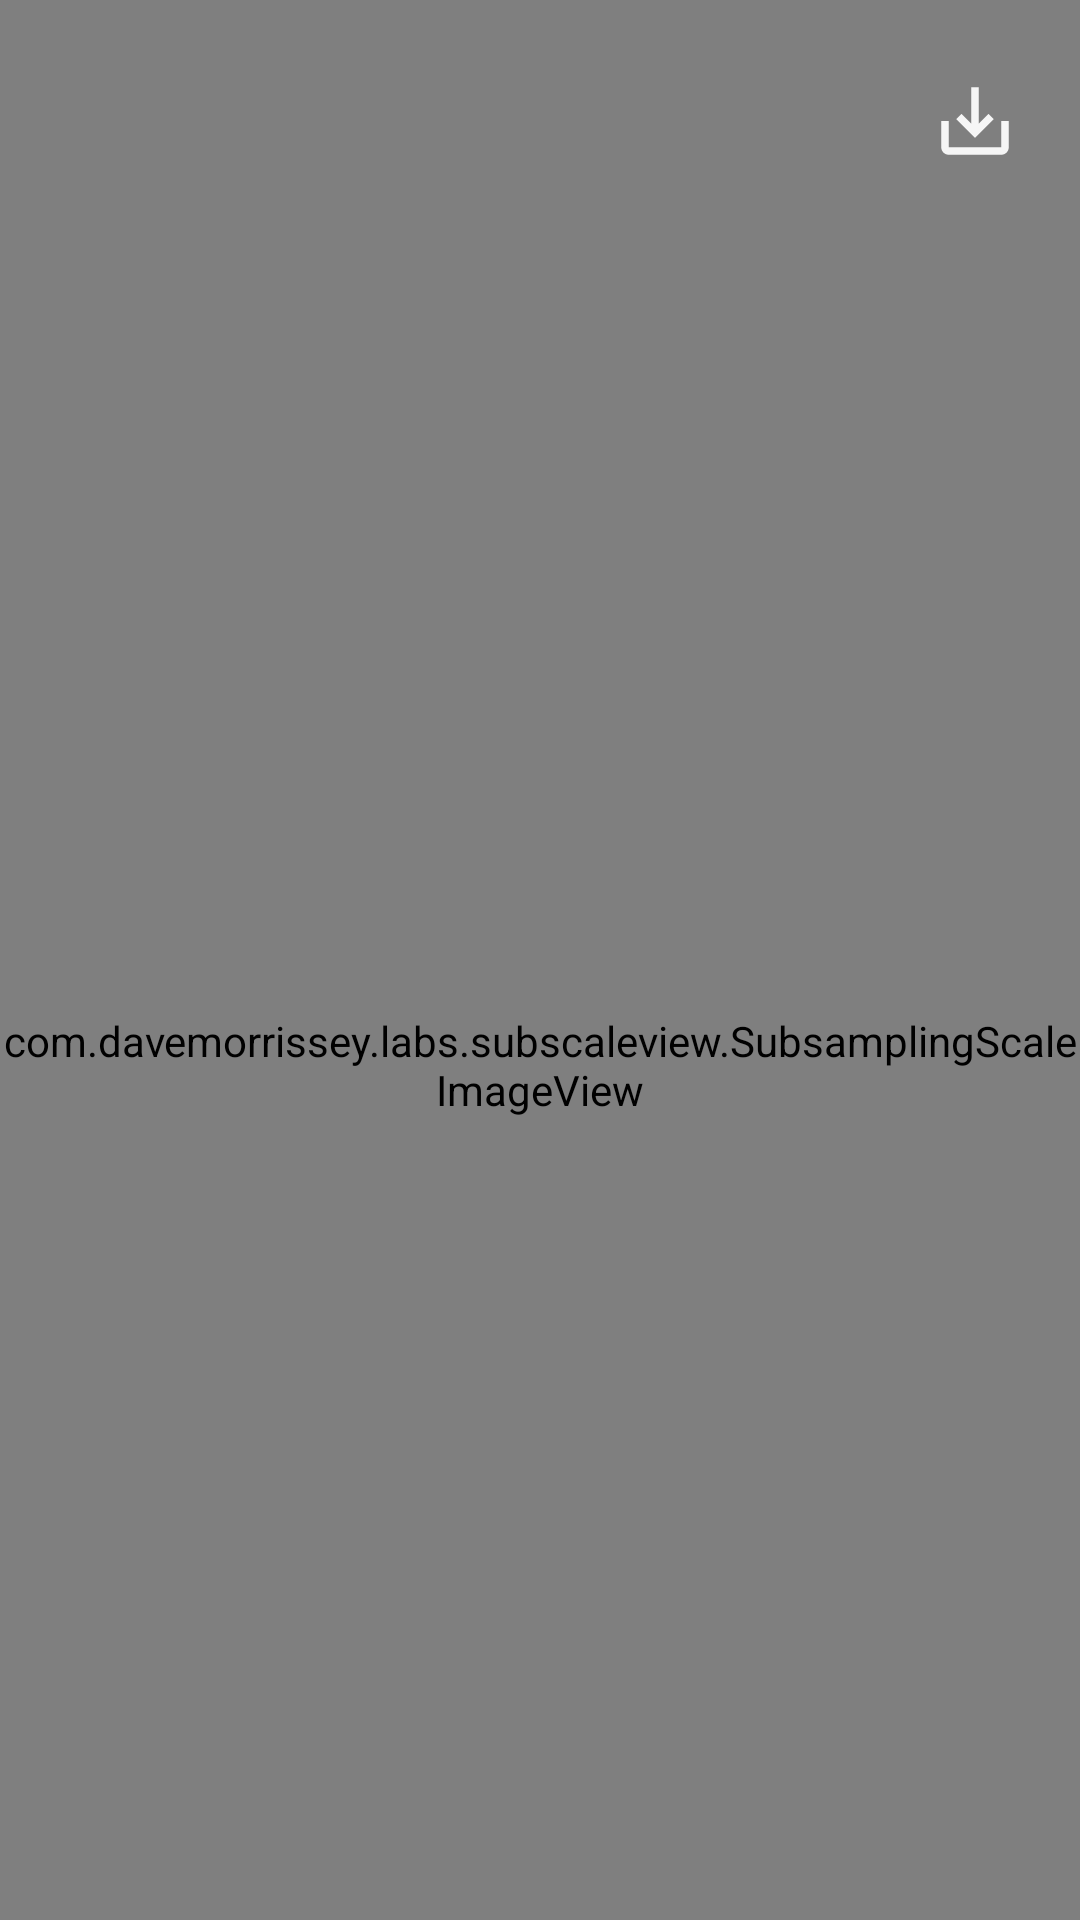

Locate icon controls on the screen. Image size 1080w x 1920h, boxes as [left=x1, top=y1, right=x2, bottom=y2].
save: [left=941, top=87, right=1009, bottom=155]
